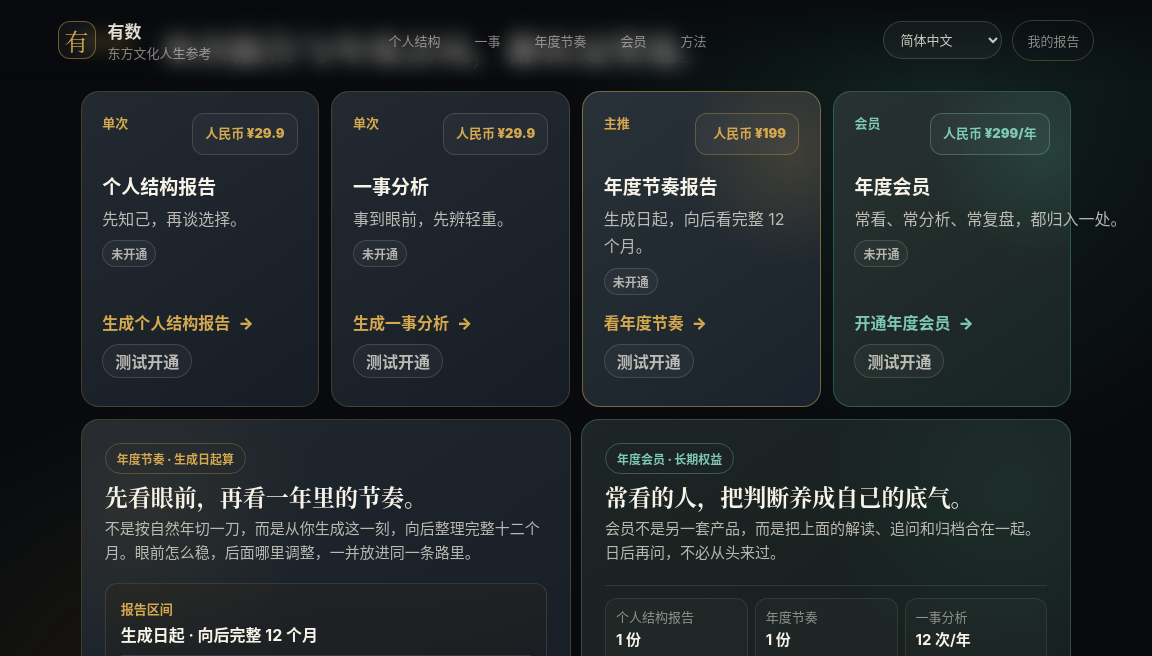
Youshu homepage › saves generated reports under My reports and opens a saved detail
(page scrolled)
Click the button with aria-label "测试开通：个人结构报告": (147, 361) [102, 344, 192, 378]
(page scrolled)
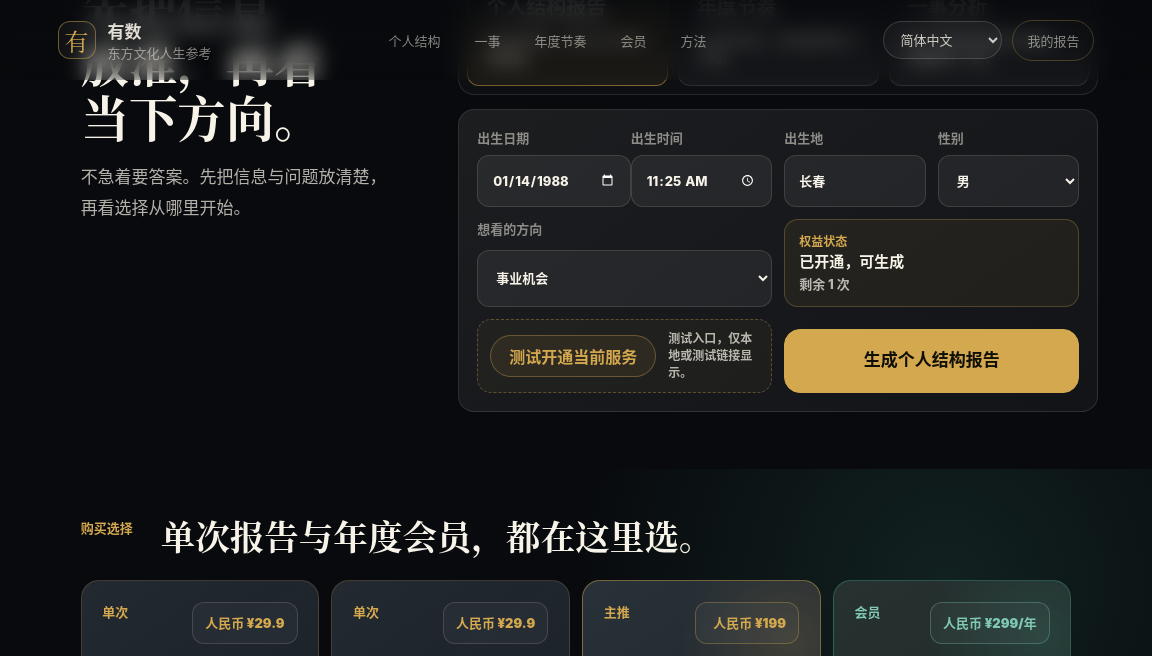
Click the button "生成个人结构报告": (932, 361) [784, 329, 1079, 393]
(page scrolled)
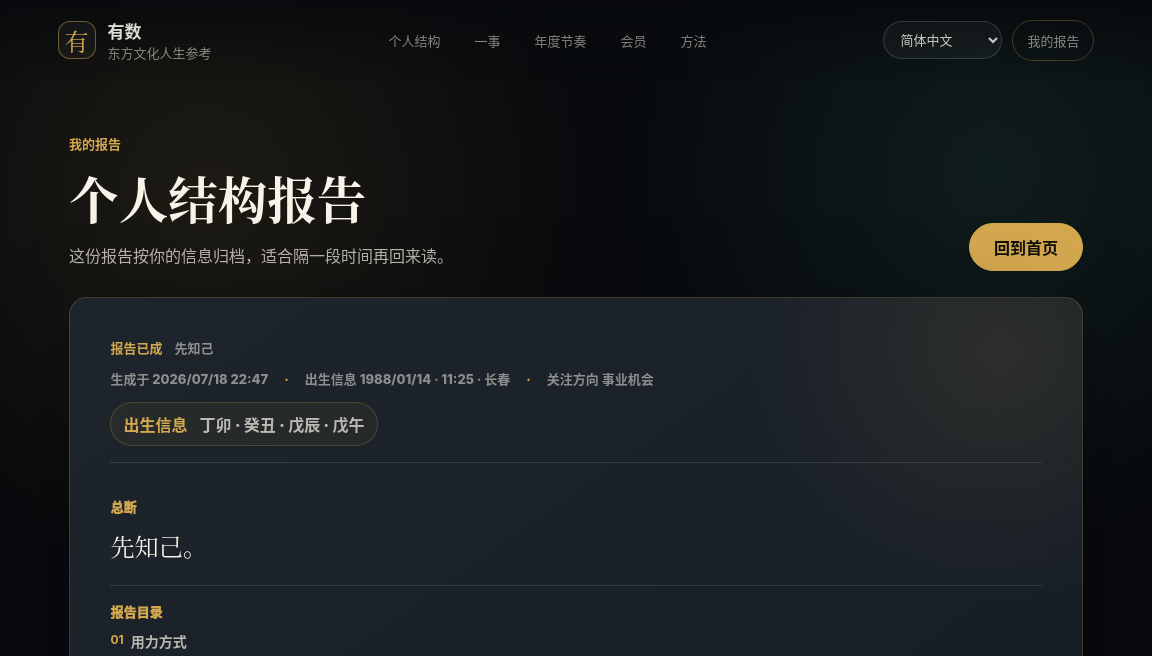
Now the text "报告已成" is shown, box [110, 338, 162, 357]
Click the link "我的报告": (1053, 40) [1012, 20, 1094, 60]
(page scrolled)
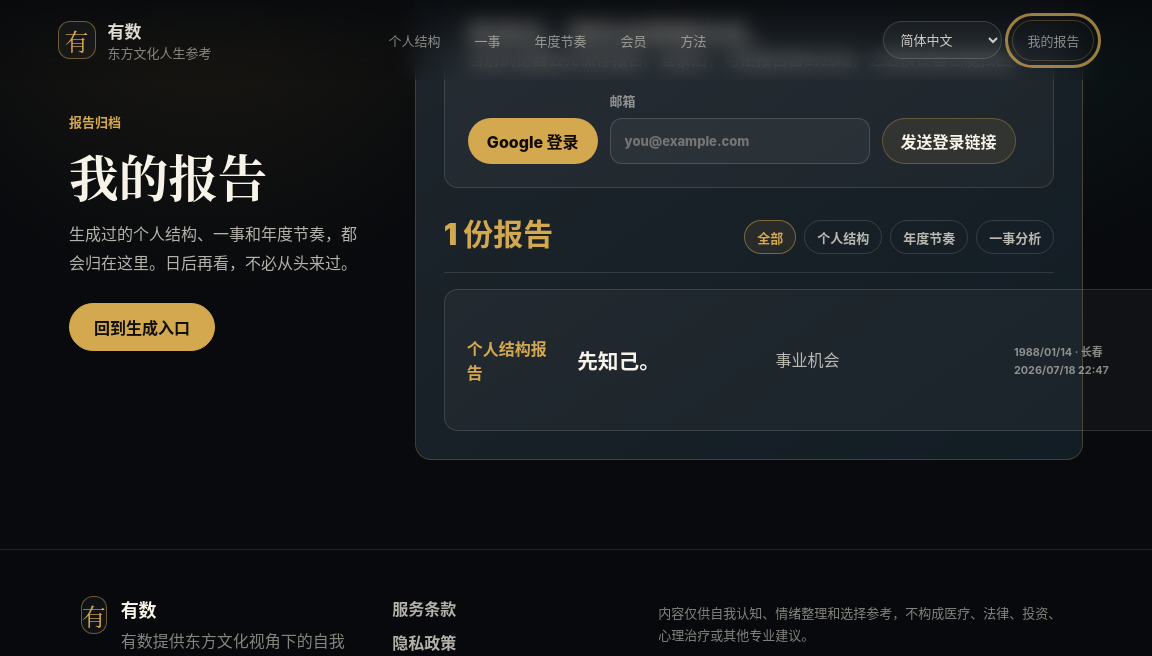
Now the heading "我的报告" is shown, box [69, 140, 267, 211]
Now the text "1988/01/14 · 长春" is shown, box [1014, 346, 1103, 359]
Now the text "先知己。" is shown, box [577, 349, 660, 374]
Click the button "个人结构报告 先知己。 事业机会 1988/01/14 · 长春 2026/07/18 22:47 打开报告": (798, 360) [444, 289, 1151, 431]
(page scrolled)
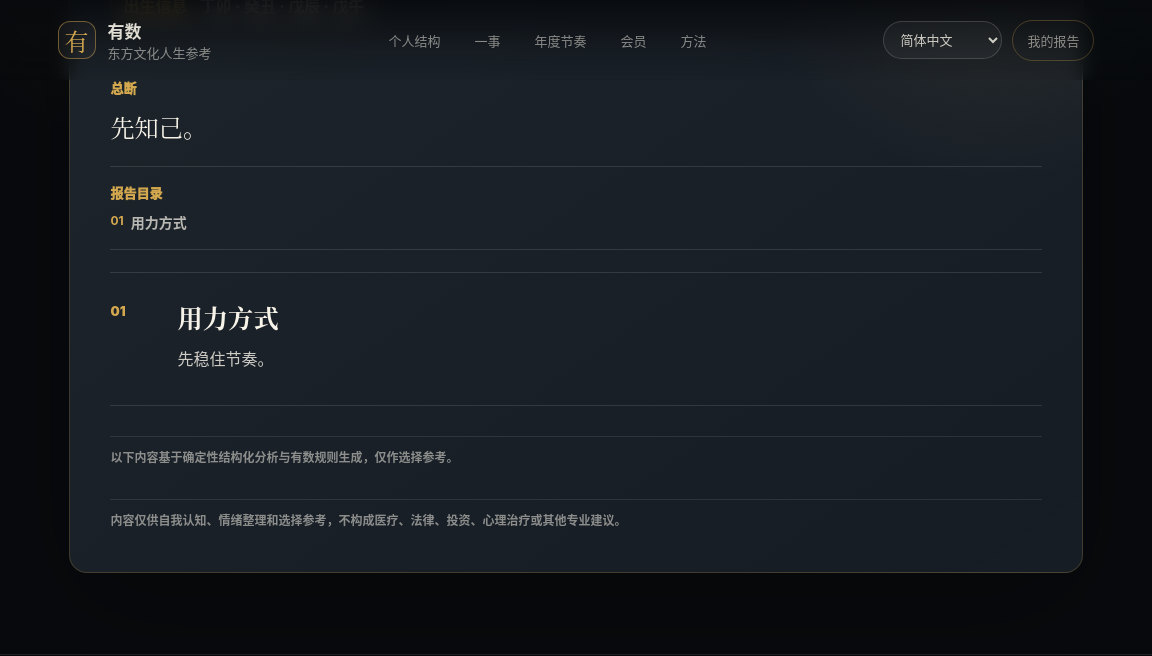
Now the text "先稳住节奏。" is shown, box [178, 349, 274, 369]
